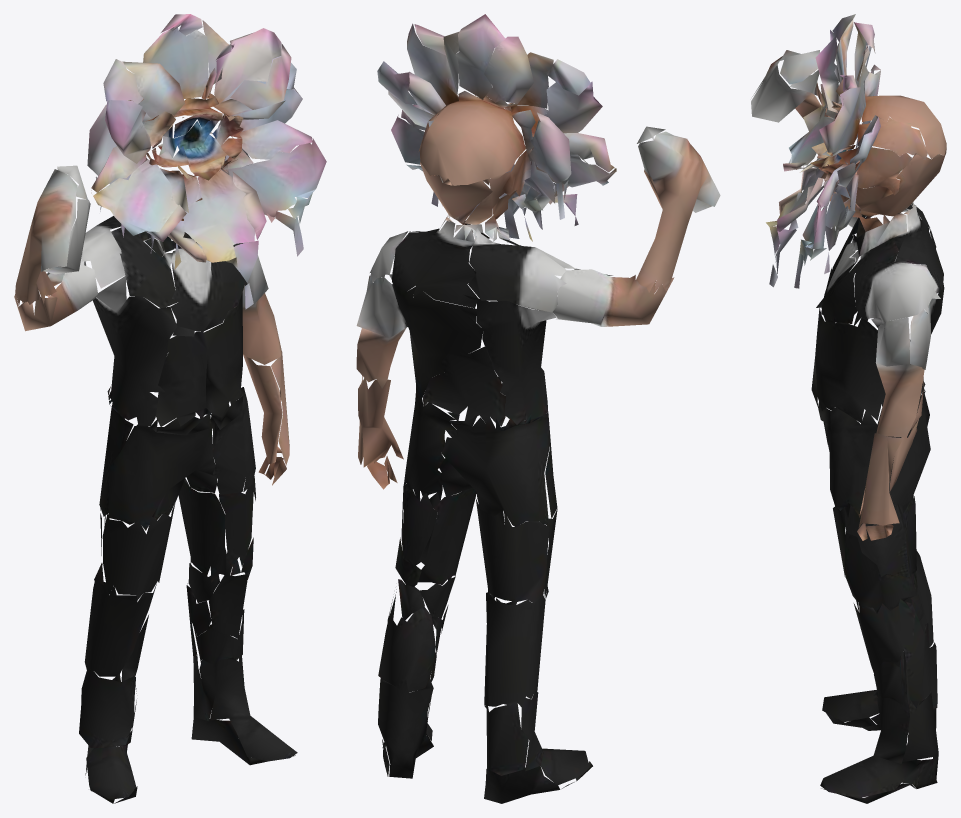
The model's file is crowd_bartender_full.glb.
3 renders of one model, left to right at view 1: azimuth 30°, elevation 25°; view 2: azimuth 150°, elevation 25°; view 3: azimuth 270°, elevation 25°, orthographic. The views are drawn at different scales.
Parts seen in each view (by area): view 1: tripo_node_8f611393-628a-4c04-9a16-76a25f729728; view 2: tripo_node_8f611393-628a-4c04-9a16-76a25f729728; view 3: tripo_node_8f611393-628a-4c04-9a16-76a25f729728.
Part boxes in pixels (bbox=[...]): tripo_node_8f611393-628a-4c04-9a16-76a25f729728: bbox=[14, 14, 326, 803]; tripo_node_8f611393-628a-4c04-9a16-76a25f729728: bbox=[356, 14, 720, 803]; tripo_node_8f611393-628a-4c04-9a16-76a25f729728: bbox=[751, 14, 946, 803].
Bounding box in the file's own units: 0.4239 × 0.9994 × 0.2429.
Materials: 1 (1 with a texture image).
